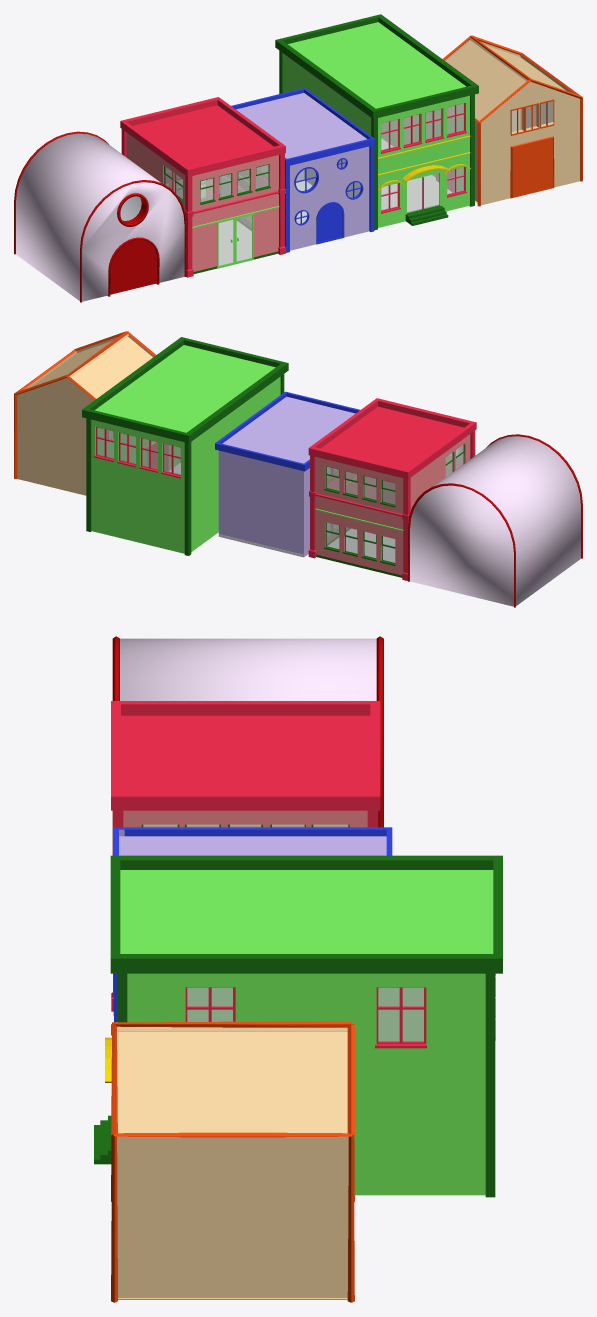
File: buildings_hepsi.obj
3 views of the same model, one above another, from view 1: azimuth 30°, elevation 25°; view 2: azimuth 150°, elevation 25°; view 3: azimuth 270°, elevation 25° (orthographic). The views are drawn at different scales.
Parts seen in each view (by area): view 1: Circle.003_şlgtg, Cube.022_Cube.029_Material.001, Cube.014_pinkkkk.001, Cube.005_m_turuncu, Cube_Cube.001_dfg, Cube_Cube.001_m_yavru, Cube.022_Cube.029_rfgd, Cube.014_nerenk.001, Cube.005_m_koyupembe.002, Circle.003_m_red, Cube.022_Cube.029_window_glass, Cube_Cube.001_window_glass (+8 smaller); view 2: Circle.003_şlgtg, Cube.022_Cube.029_Material.001, Cube.005_m_turuncu, Cube.014_pinkkkk.001, Cube_Cube.001_dfg, Cube_Cube.001_m_yavru, Cube.022_Cube.029_rfgd, Cube_Cube.001_window_glass, Cube.022_Cube.029_window_glass, Cube.005_m_koyupembe.002, Cube_Cube.001_gtfu, Cube.014_nerenk.001 (+2 smaller); view 3: Cube.022_Cube.029_Material.001, Cube.014_pinkkkk.001, Cube_Cube.001_dfg, Cube.022_Cube.029_rfgd, Circle.003_şlgtg, Cube.014_nerenk.001, Cube.005_m_turuncu, Cube_Cube.001_m_yavru, Cube.022_Cube.029_window_glass, Cube.005_m_koyupembe.002, Cube.022_Cube.029_m_pembeğ, Circle.003_m_red.
Boxes of the visible parts, x1,y1,x2,y2 form: Circle.003_şlgtg: (16, 133, 184, 301); Cube.022_Cube.029_Material.001: (283, 22, 469, 227); Cube.014_pinkkkk.001: (444, 38, 579, 205); Cube.005_m_turuncu: (236, 93, 369, 250); Cube_Cube.001_dfg: (120, 97, 285, 277); Cube_Cube.001_m_yavru: (126, 133, 278, 271); Cube.022_Cube.029_rfgd: (275, 14, 478, 230); Cube.014_nerenk.001: (442, 35, 582, 206); Cube.005_m_koyupembe.002: (231, 88, 374, 252); Circle.003_m_red: (14, 131, 186, 302); Cube.022_Cube.029_window_glass: (381, 103, 463, 213); Cube_Cube.001_window_glass: (165, 164, 268, 265); Circle.003_şlgtg: (410, 436, 580, 606); Cube.022_Cube.029_Material.001: (91, 345, 280, 553); Cube.005_m_turuncu: (218, 396, 355, 557); Cube.014_pinkkkk.001: (17, 334, 154, 495); Cube_Cube.001_dfg: (308, 398, 476, 580); Cube_Cube.001_m_yavru: (315, 434, 470, 575); Cube.022_Cube.029_rfgd: (82, 337, 288, 555); Cube_Cube.001_window_glass: (326, 445, 463, 562); Cube.022_Cube.029_window_glass: (97, 427, 180, 474); Cube.005_m_koyupembe.002: (215, 391, 359, 471); Cube_Cube.001_gtfu: (316, 444, 464, 577); Cube.014_nerenk.001: (14, 331, 155, 478); Cube.022_Cube.029_Material.001: (120, 870, 493, 1195); Cube.014_pinkkkk.001: (117, 1026, 348, 1299); Cube_Cube.001_dfg: (111, 701, 380, 1011); Cube.022_Cube.029_rfgd: (110, 855, 502, 1197); Circle.003_şlgtg: (120, 638, 376, 700); Cube.014_nerenk.001: (111, 1021, 354, 1302); Cube.005_m_turuncu: (119, 829, 386, 855); Cube_Cube.001_m_yavru: (123, 810, 367, 827); Cube.022_Cube.029_window_glass: (187, 987, 423, 1041); Cube.005_m_koyupembe.002: (113, 827, 392, 1022); Cube.022_Cube.029_m_pembeğ: (185, 974, 495, 1048); Circle.003_m_red: (112, 636, 383, 855).
Size of the model in its own units: 780 by 180 by 275.
